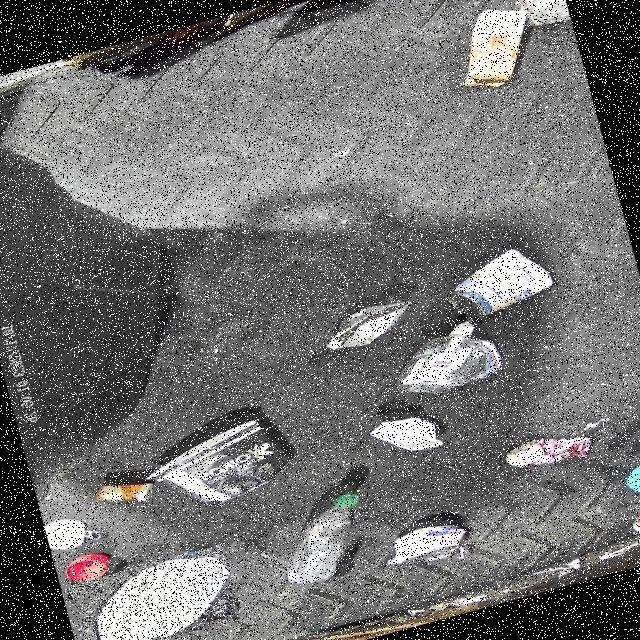milk-jug: (68, 542, 242, 640)
